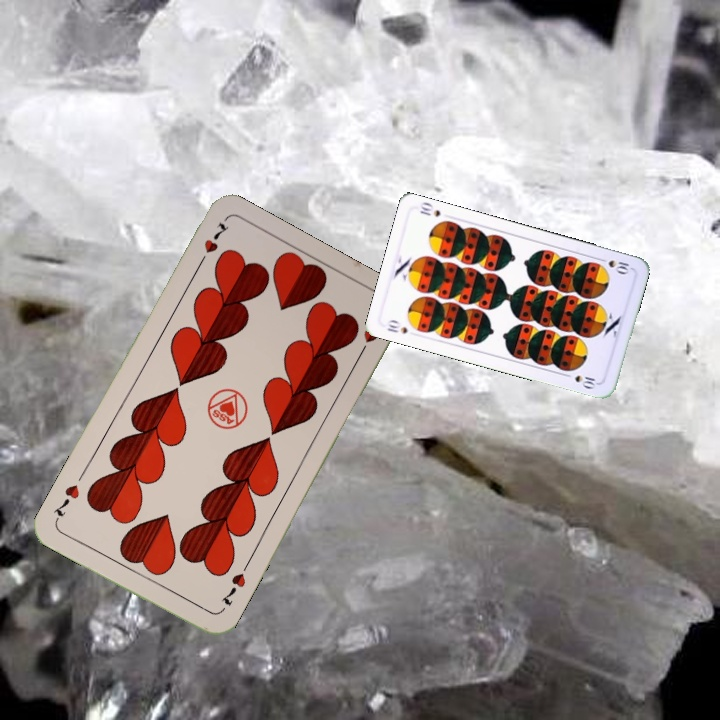H7: (193, 218, 232, 270), (217, 568, 248, 608)
S10: (593, 254, 631, 277), (383, 316, 410, 336)
